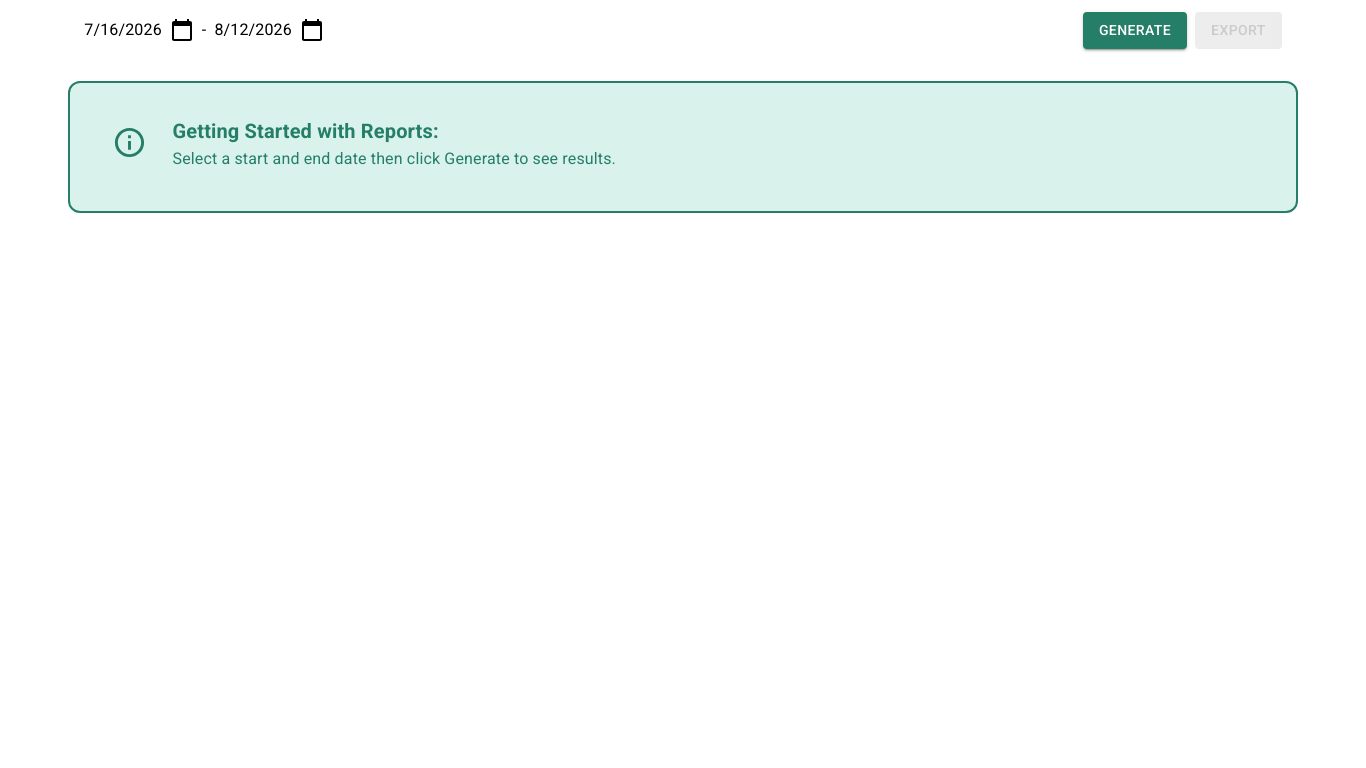
Test case: SummaryReport › counts an unserved client who was active at the selected report end date
The width and height of the screenshot is (1366, 768).
Click the button "Generate": click(1135, 30) [1083,12,1187,48]
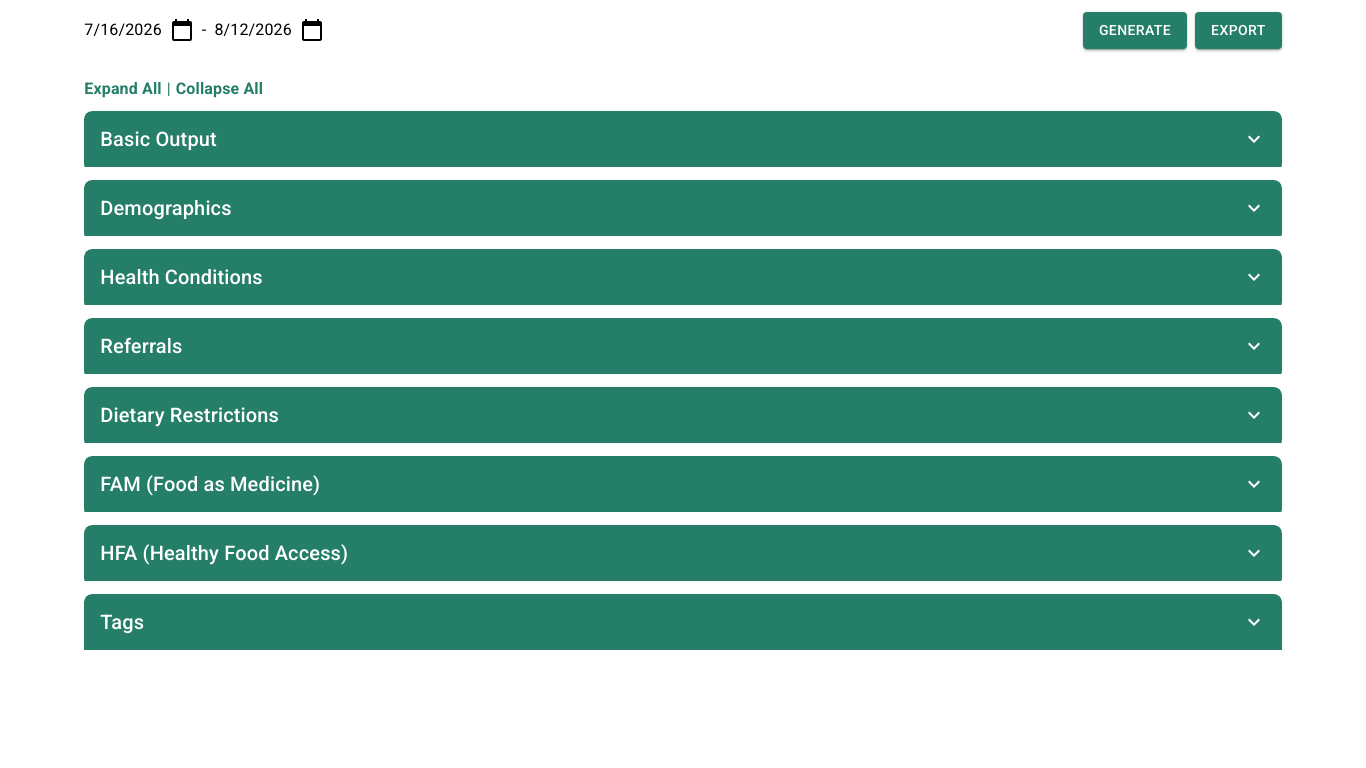
Click the button "Tags": click(122, 622) [84,594,1282,650]
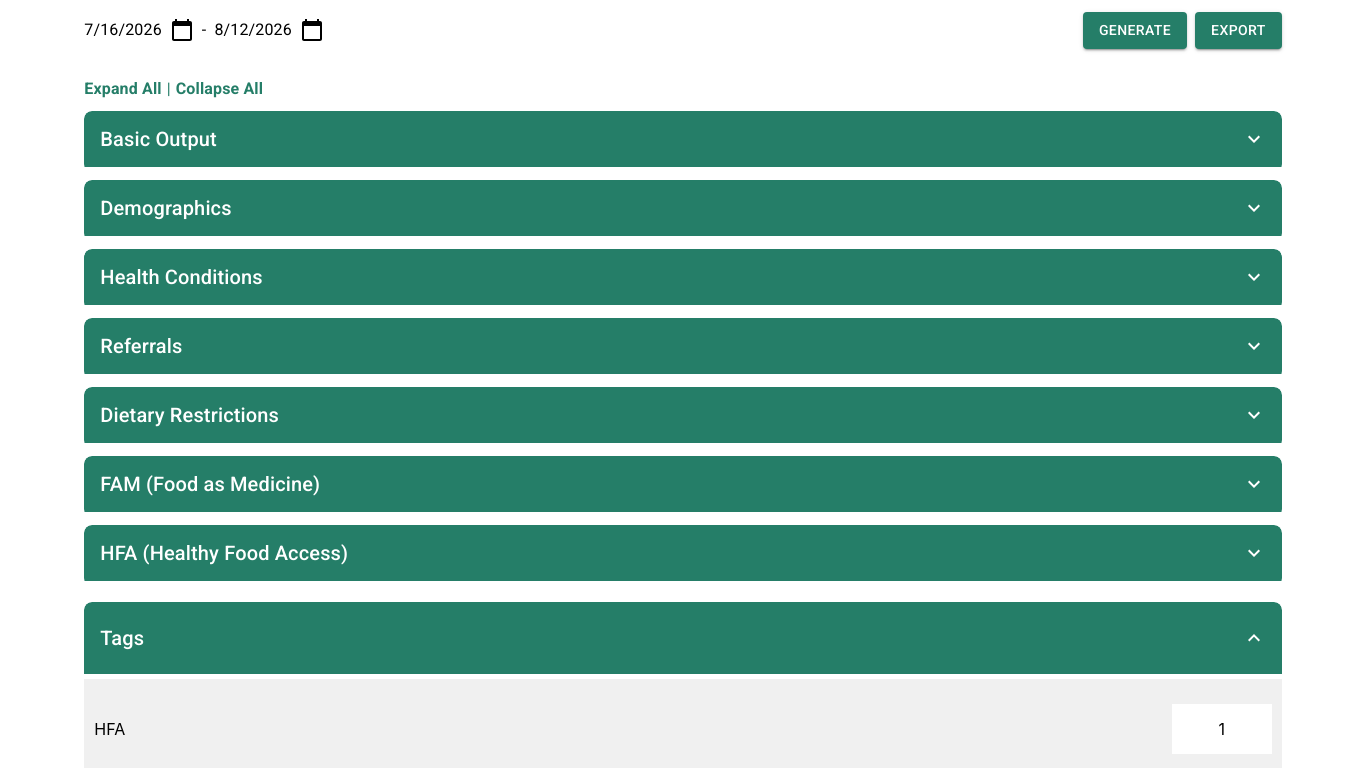
Now the text "HFA" is shown, box [94,718,125,738]
Now the text "1" is shown, box [1218,718,1225,738]
